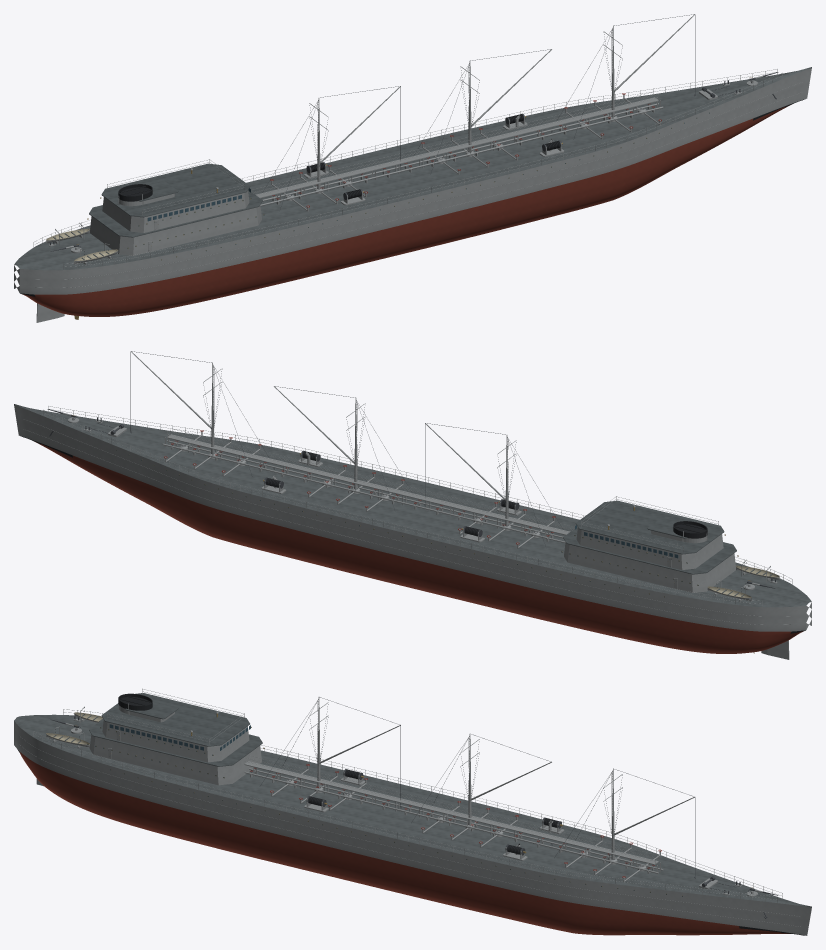
Rendered from us_support_1932.glb.
The picture shows the model from 3 angles, top to bottom: view 1: azimuth 30°, elevation 25°; view 2: azimuth 150°, elevation 25°; view 3: azimuth 330°, elevation 25°; orthographic projection.
Visible parts, largest first — view 1: Fleet support ship · 1932; view 2: Fleet support ship · 1932; view 3: Fleet support ship · 1932.
Boxes of the visible parts, x1=… form: Fleet support ship · 1932: x1=14, y1=14, x2=811, y2=322; Fleet support ship · 1932: x1=14, y1=351, x2=811, y2=659; Fleet support ship · 1932: x1=14, y1=688, x2=811, y2=935.
Size of the model in its own units: 144 by 27.6 by 18.09.
10 materials, 9 textured.
